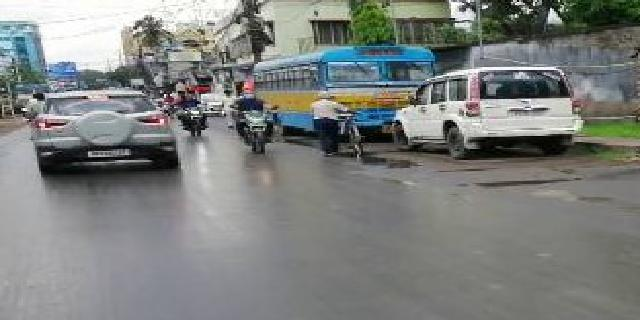Bus: (258, 42, 437, 141)
Car: (392, 69, 591, 155), (37, 88, 179, 179)
Motorbike: (237, 79, 286, 158), (180, 86, 215, 146)
